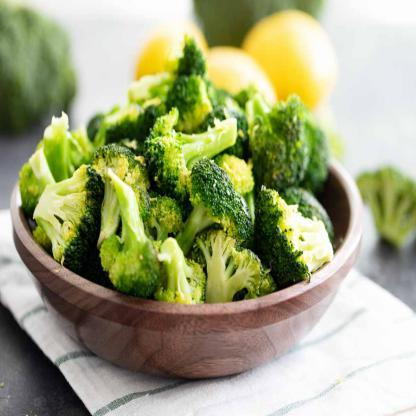broccoli: (18, 34, 336, 308)
